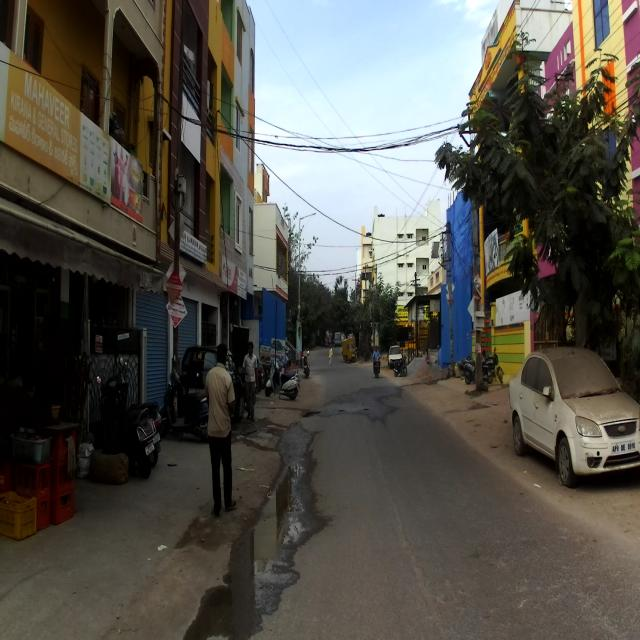car ahead at: (507, 336, 640, 490)
motorcycle ahead at: (94, 372, 168, 474), (163, 161, 186, 432)
person ahead at: (198, 340, 243, 516)
